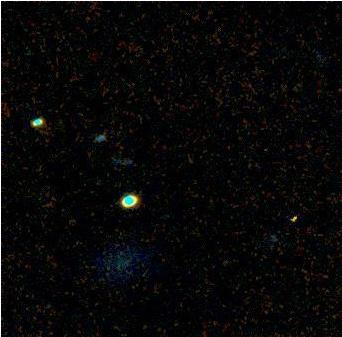star: (279, 206, 309, 236)
